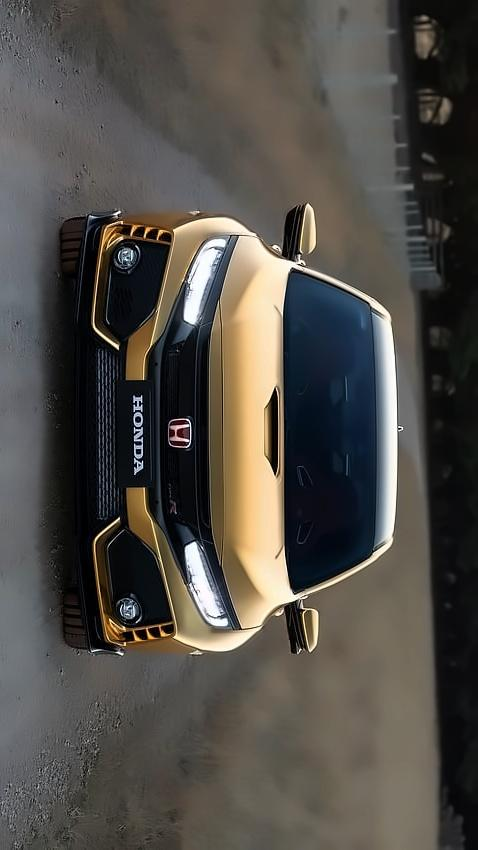Car hood: (203, 210, 292, 639)
Front bumper: (69, 204, 204, 658)
Headlight - -L-: (173, 532, 240, 632)
Headlight - -R-: (160, 230, 237, 338)
Side mirror - -R-: (276, 196, 321, 268), (284, 594, 327, 660)
